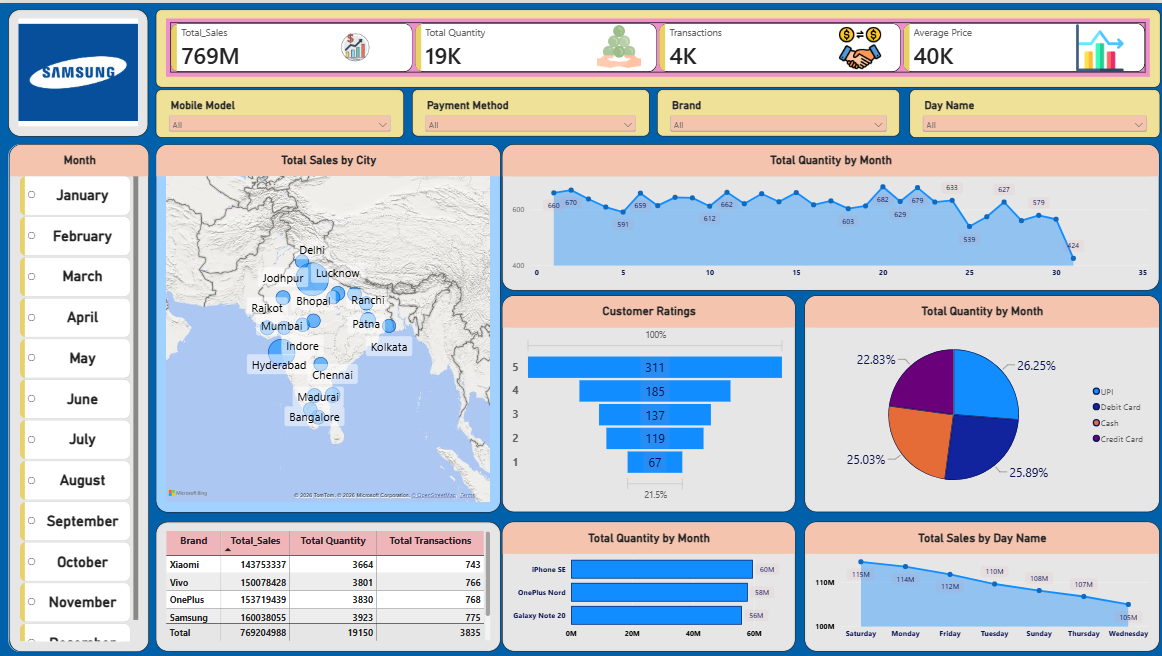

The dashboard page shown, as its layout file describes it:
{"tool":"powerbi","page":{"name":"Page 1","canvas":[1920,1080],"ordinal":0},"visuals":[{"type":"shape","box":[18.1,231.6,229.8,836.1],"z":0},{"type":"advancedSlicerVisual","fields":{"Values":["Sales Data.Date.Variation.Date Hierarchy.Month"]},"box":[19.9,231.6,229.8,836.1],"z":1000},{"type":"cardVisual","fields":{"Data":["Sales Data.Total_Sales","Sales Data.Total Quantity","Sales Data.Total Transactions","Sales Data.Average Unit Price"]},"box":[260.6,10.9,1654,128.5],"z":2000},{"type":"image","box":[495.8,36.2,188.2,72.4],"z":3000},{"type":"image","box":[959.1,32.6,130.3,77.8],"z":4000},{"type":"image","box":[1353.6,36.2,133.9,74.2],"z":5000},{"type":"image","box":[1768,34.4,95.9,77.8],"z":6000},{"type":"map","title":"Total Sales by City","fields":{"Category":["Sales Data.City"],"Size":["Sales Data.Total_Sales"]},"box":[260.6,231.6,568.2,606.2],"z":7000},{"type":"areaChart","title":"Total Quantity by Month","fields":{"Category":["Sales Data.Date.Variation.Date Hierarchy.Month","Sales Data.Date.Variation.Date Hierarchy.Day"],"Y":["Sales Data.Total Quantity"]},"box":[832.4,231.6,1082.2,240.7],"z":8000},{"type":"clusteredBarChart","title":"Total Quantity by Month","fields":{"Category":["Sales Data.Mobile Model"],"Y":["Sales Data.Total_Sales"]},"box":[832.4,854.2,483.2,213.5],"z":9000},{"type":"pieChart","title":"Total Quantity by Month","fields":{"Category":["Sales Data.Payment Method"],"Y":["Sales Data.Total Transactions"]},"box":[1330.1,481.4,584.5,356.5],"z":10000},{"type":"funnel","title":"Customer Ratings","fields":{"Category":["Sales Data.Customer Ratings"],"Y":["CountNonNull(Sales Data.Customer Ratings)"]},"box":[832.4,481.4,483.2,356.5],"z":11000},{"type":"areaChart","title":"Total Sales by Day Name","fields":{"Category":["Sales Data.Day Name"],"Y":["Sales Data.Total_Sales"]},"box":[1330.1,854.2,584.5,213.5],"z":12000},{"type":"tableEx","fields":{"Values":["Sales Data.Brand","Sales Data.Total_Sales","Sales Data.Total Quantity","Sales Data.Total Transactions"]},"box":[260.6,854.2,568.2,213.5],"z":13000},{"type":"slicer","fields":{"Values":["Sales Data.Mobile Model"]},"box":[260.6,141.2,409,79.6],"z":14000},{"type":"slicer","fields":{"Values":["Sales Data.Payment Method"]},"box":[684.1,141.2,390.9,77.8],"z":15000},{"type":"slicer","fields":{"Values":["Sales Data.Brand"]},"box":[1087.6,141.2,399.9,77.8],"z":16000},{"type":"slicer","fields":{"Values":["Sales Data.Day Name"]},"box":[1502,141.2,412.6,79.6],"z":17000},{"type":"image","box":[18.5,10.3,230.5,209.9],"z":17003}]}

Visuals, with their boxes in screenshot pixels (x1, y1, x2, y2), scaled from the page's 1920x1080 canvas onto the 1162x656 screenshot:
shape: {"left": 11, "top": 141, "right": 150, "bottom": 649}
advancedSlicerVisual - Sales Data.Date.Variation.Date Hierarchy.Month: {"left": 12, "top": 141, "right": 151, "bottom": 649}
cardVisual - Sales Data.Total_Sales x Sales Data.Total Quantity: {"left": 158, "top": 7, "right": 1159, "bottom": 85}
image: {"left": 300, "top": 22, "right": 414, "bottom": 66}
image: {"left": 580, "top": 20, "right": 659, "bottom": 67}
image: {"left": 819, "top": 22, "right": 900, "bottom": 67}
image: {"left": 1070, "top": 21, "right": 1128, "bottom": 68}
"Total Sales by City" map: {"left": 158, "top": 141, "right": 502, "bottom": 509}
"Total Quantity by Month" areaChart: {"left": 504, "top": 141, "right": 1159, "bottom": 287}
"Total Quantity by Month" clusteredBarChart: {"left": 504, "top": 519, "right": 796, "bottom": 649}
"Total Quantity by Month" pieChart: {"left": 805, "top": 292, "right": 1159, "bottom": 509}
"Customer Ratings" funnel: {"left": 504, "top": 292, "right": 796, "bottom": 509}
"Total Sales by Day Name" areaChart: {"left": 805, "top": 519, "right": 1159, "bottom": 649}
tableEx - Sales Data.Brand x Sales Data.Total_Sales: {"left": 158, "top": 519, "right": 502, "bottom": 649}
slicer - Sales Data.Mobile Model: {"left": 158, "top": 86, "right": 405, "bottom": 134}
slicer - Sales Data.Payment Method: {"left": 414, "top": 86, "right": 651, "bottom": 133}
slicer - Sales Data.Brand: {"left": 658, "top": 86, "right": 900, "bottom": 133}
slicer - Sales Data.Day Name: {"left": 909, "top": 86, "right": 1159, "bottom": 134}
image: {"left": 11, "top": 6, "right": 151, "bottom": 134}
